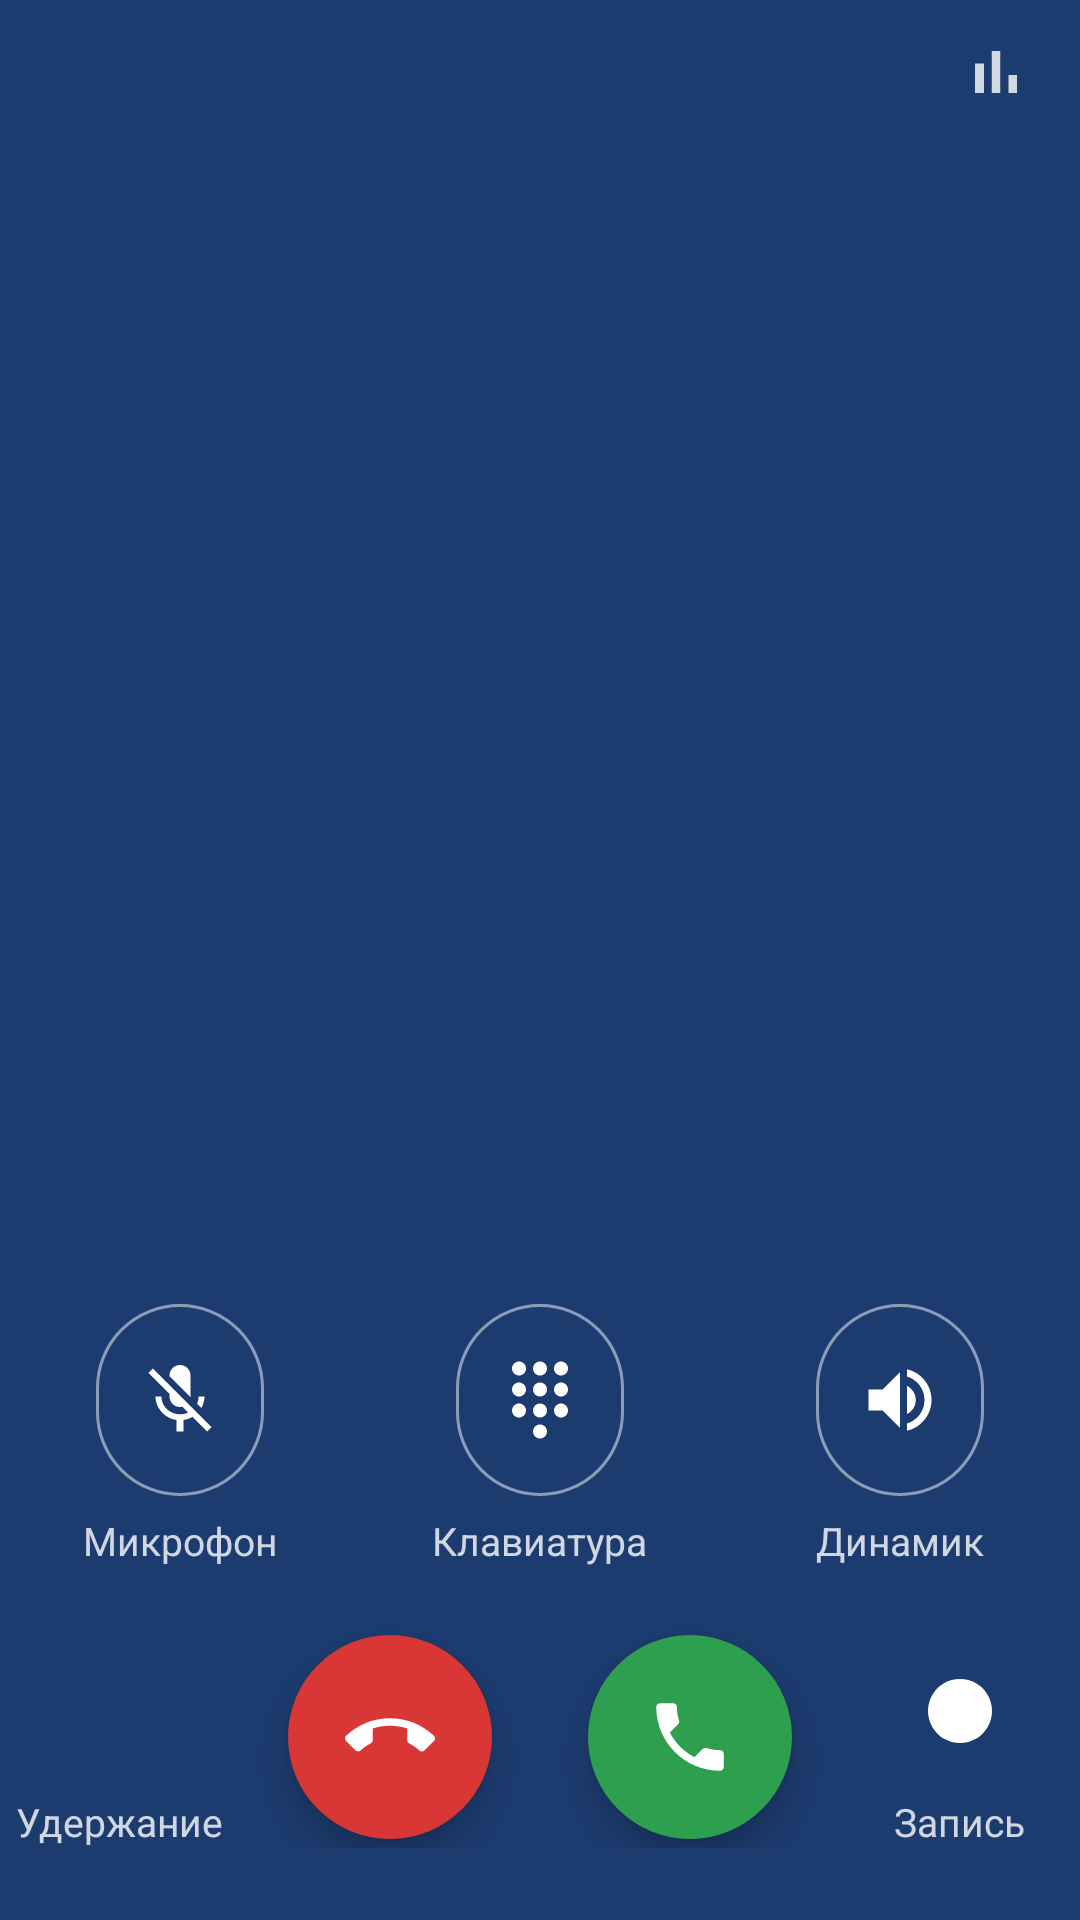

Screen size 1080 × 1920. Icon name, then its box in pixels as BBox(x1, y1, x2, y2):
Завершить: BBox(288, 1635, 492, 1839)
Ответить: BBox(588, 1635, 792, 1839)
Статистика: BBox(975, 51, 1017, 93)
